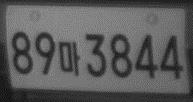3: (84, 32, 107, 78)
4: (158, 34, 183, 79), (134, 33, 158, 78)
8: (109, 32, 133, 78), (11, 31, 34, 75)
9: (35, 31, 56, 77)
마: (57, 40, 82, 76)
